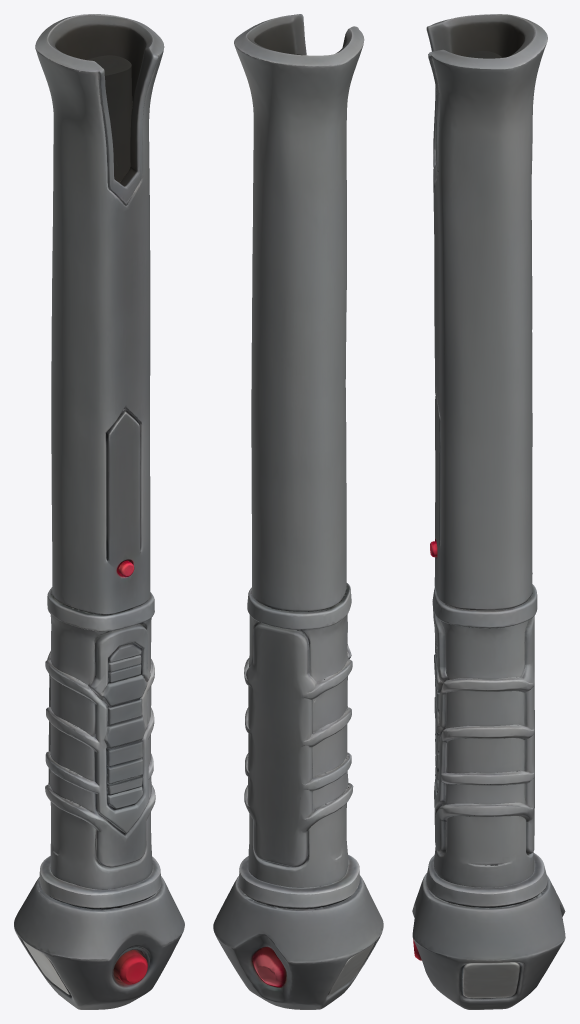
Rendered from saber_hilt_dark_a.glb.
3 views of the same model, side by side, from view 1: azimuth 30°, elevation 25°; view 2: azimuth 150°, elevation 25°; view 3: azimuth 270°, elevation 25° (orthographic).
Visible parts, largest first — view 1: model; view 2: model; view 3: model.
Part boxes in pixels (x1=…): model: x1=14, y1=14, x2=184, y2=1009; model: x1=213, y1=14, x2=383, y2=1009; model: x1=412, y1=14, x2=565, y2=1009.
Bounding box in the file's own units: 0.2994 × 1.9 × 0.2736.
1 material, 1 textured.
